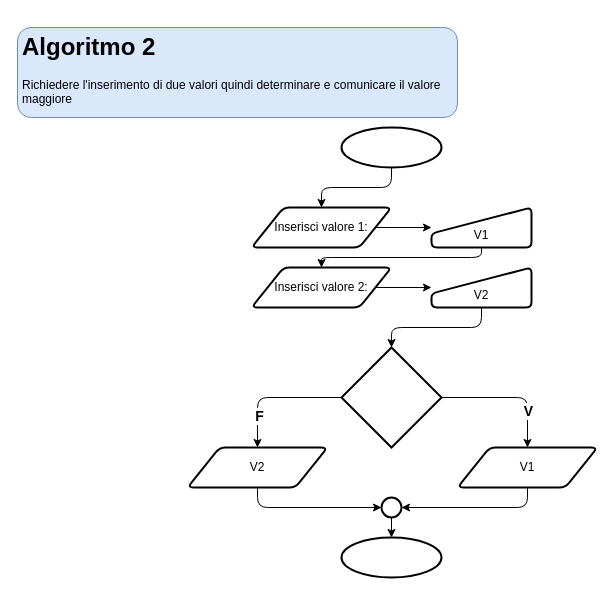
This 616x595 diagram has some shape labels left out. Here are the shapes that lost their labels. From the top down, the centre of each, then its label:
At (391,147): "inizio".
At (391,397): "V1 > V2".
At (391,557): "fine".
